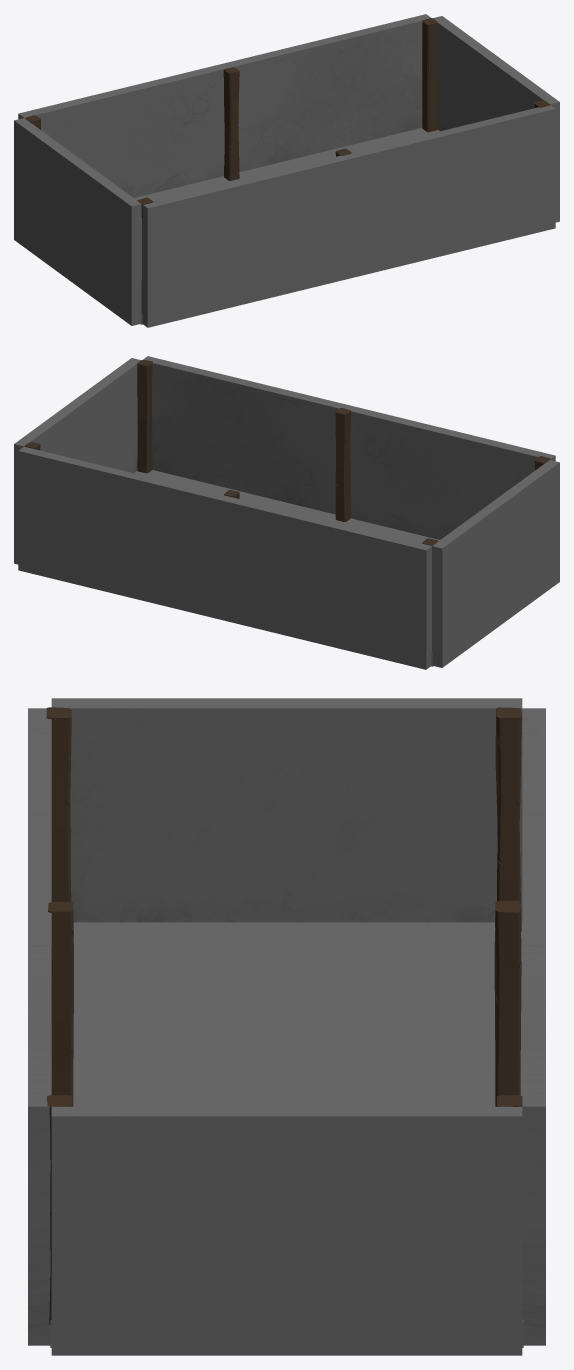
Rendered from Подвал.fbx.
The picture shows the model from 3 angles, top to bottom: view 1: azimuth 30°, elevation 25°; view 2: azimuth 150°, elevation 25°; view 3: azimuth 270°, elevation 25°; orthographic projection. The views are drawn at different scales.
Visible parts, largest first — view 1: long_wall_lp, long_wall_lp.001, short_wall_lp, short_wall_lp.001, floor_lp, Cube.002, Cube; view 2: long_wall_lp.001, long_wall_lp, short_wall_lp, short_wall_lp.001, floor_lp, Cube.003, Cube.004; view 3: short_wall_lp.001, short_wall_lp, floor_lp, long_wall_lp.001, long_wall_lp, Cube, Cube.001, Cube.003, Cube.005.
Part boxes in pixels (x1,y1,x2,y2): long_wall_lp: (142, 105, 555, 327); long_wall_lp.001: (18, 14, 430, 197); short_wall_lp: (14, 118, 141, 325); short_wall_lp.001: (433, 16, 559, 222); floor_lp: (134, 128, 439, 324); Cube.002: (422, 18, 437, 132); Cube: (223, 67, 239, 180); long_wall_lp.001: (18, 446, 431, 669); long_wall_lp: (143, 356, 555, 539); short_wall_lp: (432, 460, 559, 667); short_wall_lp.001: (14, 358, 140, 564); floor_lp: (134, 470, 439, 666); Cube.003: (335, 408, 350, 521); Cube.004: (137, 359, 152, 473); short_wall_lp.001: (51, 1106, 522, 1355); short_wall_lp: (51, 698, 522, 922); floor_lp: (50, 922, 523, 1347); long_wall_lp.001: (522, 708, 545, 1345); long_wall_lp: (28, 708, 51, 1345); Cube: (494, 900, 521, 1106); Cube.001: (495, 707, 521, 931); Cube.003: (48, 901, 73, 1106); Cube.005: (46, 707, 71, 901).
Size of the model in its own units: 2100 by 566 by 1100.
